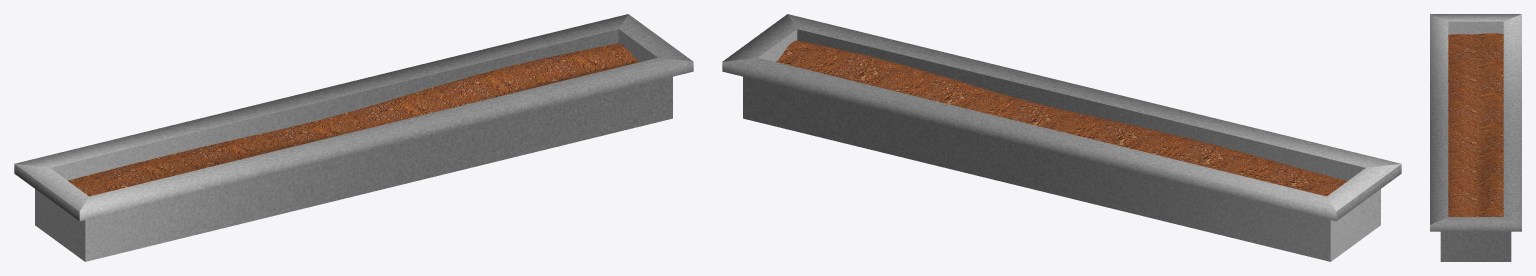
File: bloompot2.fbx
3 renders of one model, left to right at view 1: azimuth 30°, elevation 25°; view 2: azimuth 150°, elevation 25°; view 3: azimuth 270°, elevation 25°, orthographic. The views are drawn at different scales.
Parts seen in each view (by area): view 1: pCube2, pPlane2; view 2: pCube2, pPlane2; view 3: pCube2, pPlane2.
Boxes of the visible parts, left/top/right/bottom form: pCube2: left=14, top=14, right=693, bottom=261; pPlane2: left=68, top=43, right=642, bottom=196; pCube2: left=722, top=14, right=1401, bottom=261; pPlane2: left=776, top=40, right=1347, bottom=196; pCube2: left=1430, top=14, right=1521, bottom=261; pPlane2: left=1448, top=33, right=1503, bottom=216.
Bounding box in the file's own units: 14.17 × 1.3 × 2.61.
